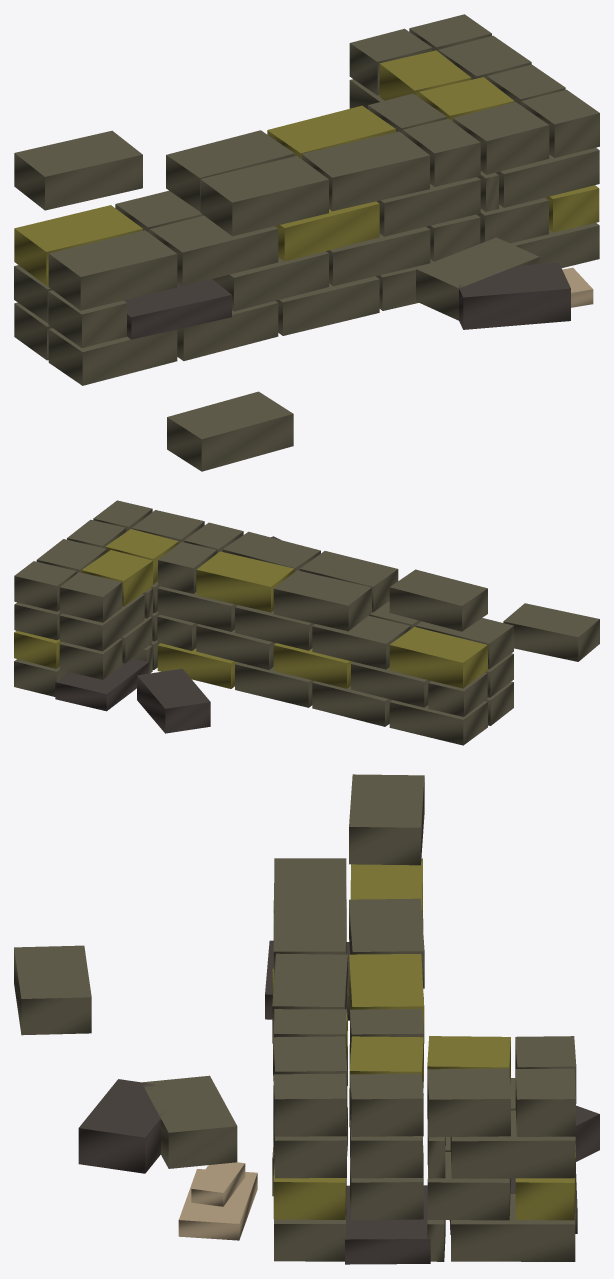
File: SM_SacosRemateEspejo_v2_Irregular_e1_Danado_LOD0.fbx
3 views of the same model, one above another, from view 1: azimuth 30°, elevation 25°; view 2: azimuth 150°, elevation 25°; view 3: azimuth 270°, elevation 25° (orthographic). The views are drawn at different scales.
Visible parts, largest first — view 1: SM_sacos_piezas_v29_LOD0; view 2: SM_sacos_piezas_v29_LOD0; view 3: SM_sacos_piezas_v29_LOD0.
Part boxes in pixels (box(x1,y1,x2,y2)): SM_sacos_piezas_v29_LOD0: box(14, 14, 599, 471); SM_sacos_piezas_v29_LOD0: box(14, 500, 599, 745); SM_sacos_piezas_v29_LOD0: box(14, 774, 599, 1264).
Size of the model in its own units: 4.38 by 1.49 by 3.82.
